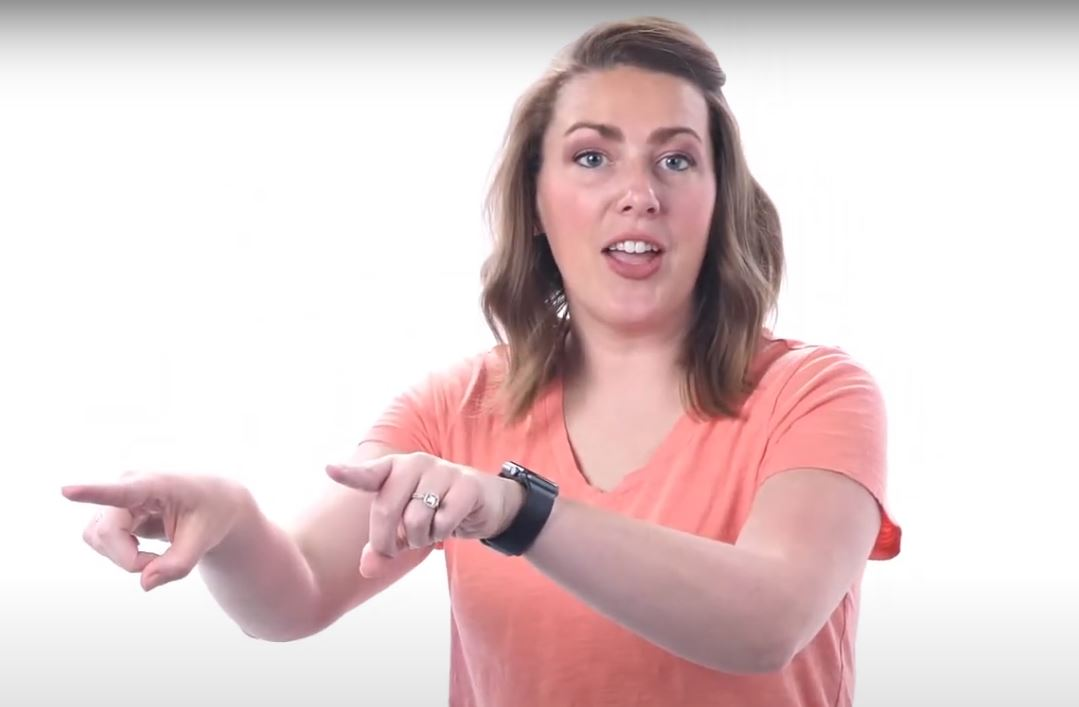go: (37, 420, 531, 660)
